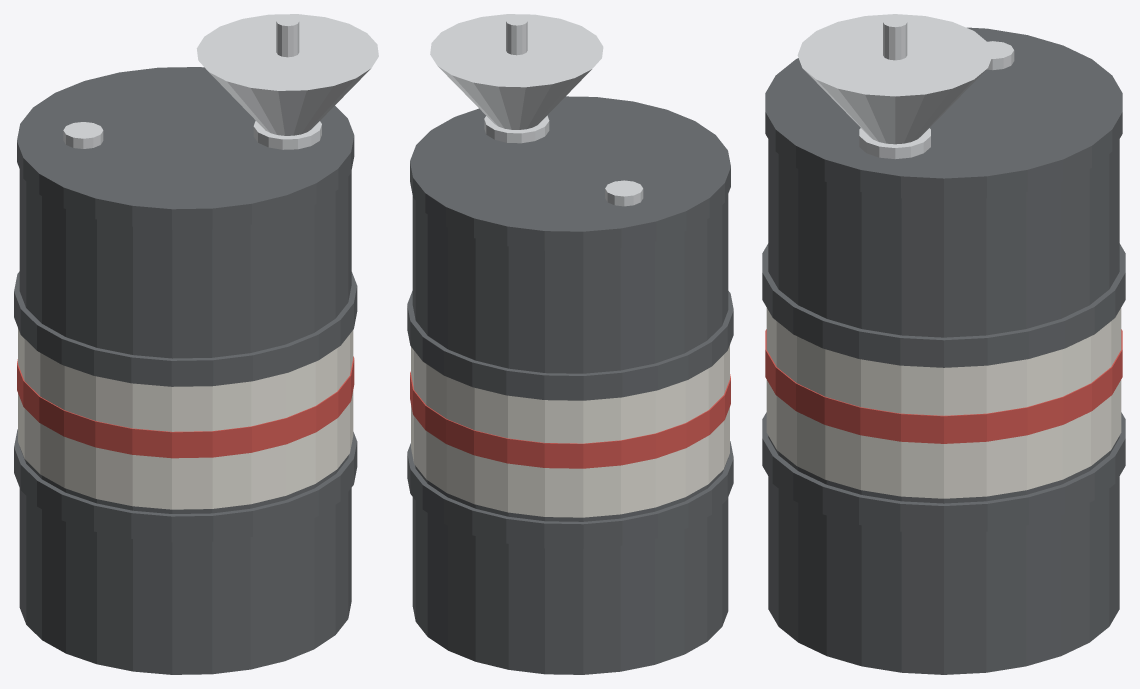
File: oil-drum.glb
3 renders of one model, left to right at view 1: azimuth 30°, elevation 25°; view 2: azimuth 150°, elevation 25°; view 3: azimuth 270°, elevation 25°, orthographic. The views are drawn at different scales.
Visible parts, largest first — view 1: car-repair-garage-and-mot-workshop-waste-oil-drum; view 2: car-repair-garage-and-mot-workshop-waste-oil-drum; view 3: car-repair-garage-and-mot-workshop-waste-oil-drum.
Boxes of the visible parts, x1,y1,x2,y2 form: car-repair-garage-and-mot-workshop-waste-oil-drum: [14, 14, 378, 674]; car-repair-garage-and-mot-workshop-waste-oil-drum: [407, 14, 733, 674]; car-repair-garage-and-mot-workshop-waste-oil-drum: [762, 14, 1125, 674].
Size of the model in its own units: 0.62 by 1.12 by 0.5956.
